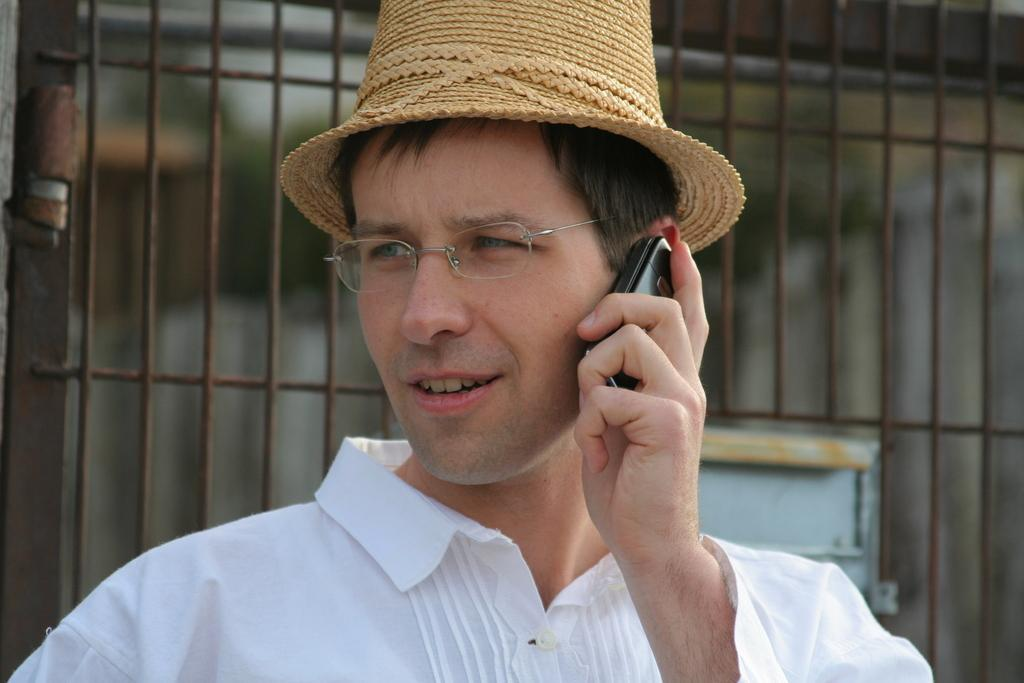Sem Máscara: (355, 118, 611, 476)
